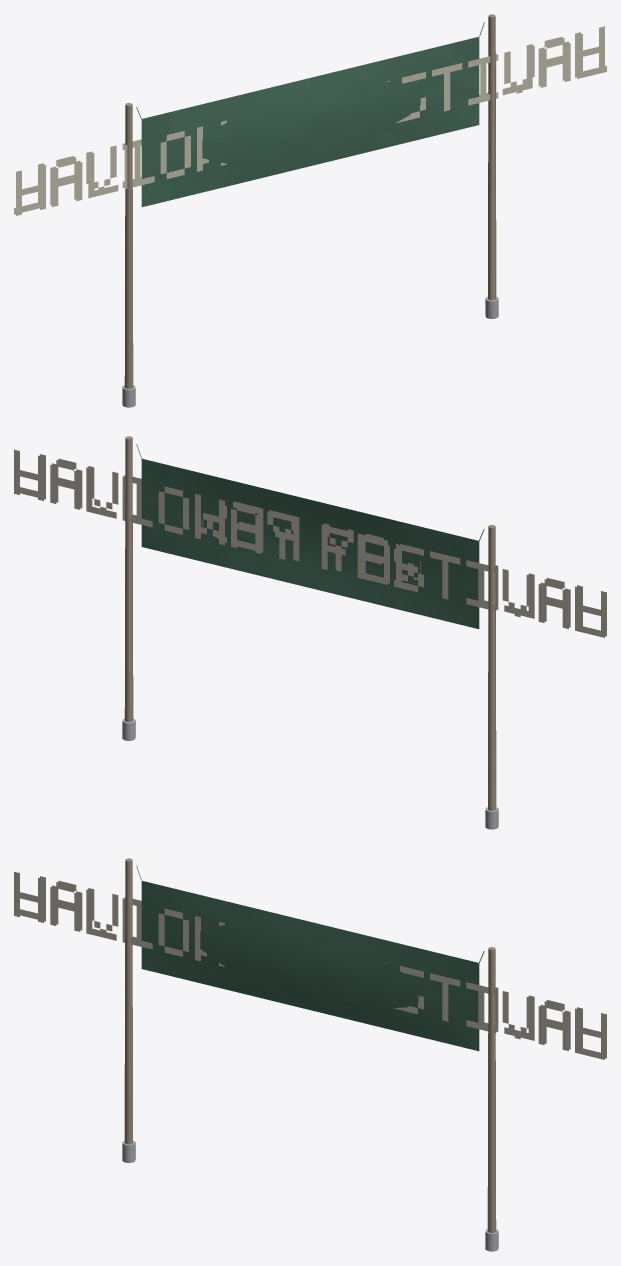
The model's file is festival_banner_a.glb.
3 views of the same model, one above another, from view 1: azimuth 30°, elevation 25°; view 2: azimuth 150°, elevation 25°; view 3: azimuth 330°, elevation 25° (orthographic).
Parts seen in each view (by area): view 1: body; view 2: body; view 3: body.
Boxes of the visible parts, x1,y1,x2,y2 form: body: (14,14,606,407); body: (14,436,606,829); body: (14,858,606,1251).
Bounding box in the file's own units: 7 × 3.4 × 0.14.
